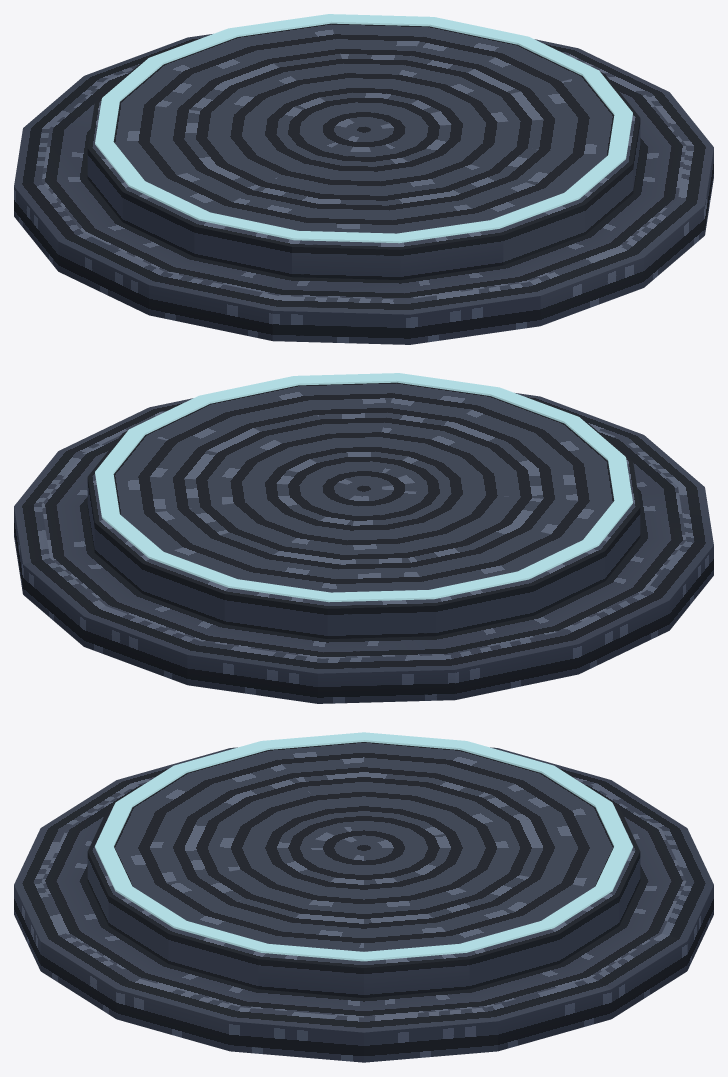
The model's file is stn.stairs__dais.glb.
3 views of the same model, one above another, from view 1: azimuth 30°, elevation 25°; view 2: azimuth 150°, elevation 25°; view 3: azimuth 270°, elevation 25° (orthographic).
Parts seen in each view (by area): view 1: kit_dais, kit_rim; view 2: kit_dais, kit_rim; view 3: kit_dais, kit_rim.
Part boxes in pixels (x1=…): kit_dais: x1=14, y1=23, x2=713, y2=344; kit_rim: x1=95, y1=14, x2=632, y2=243; kit_dais: x1=14, y1=382, x2=713, y2=703; kit_rim: x1=95, y1=373, x2=632, y2=602; kit_dais: x1=14, y1=742, x2=713, y2=1062; kit_rim: x1=95, y1=732, x2=632, y2=961.
Bounding box in the file's own units: 3.8 × 0.412 × 3.8.
2 materials, 2 textured.
